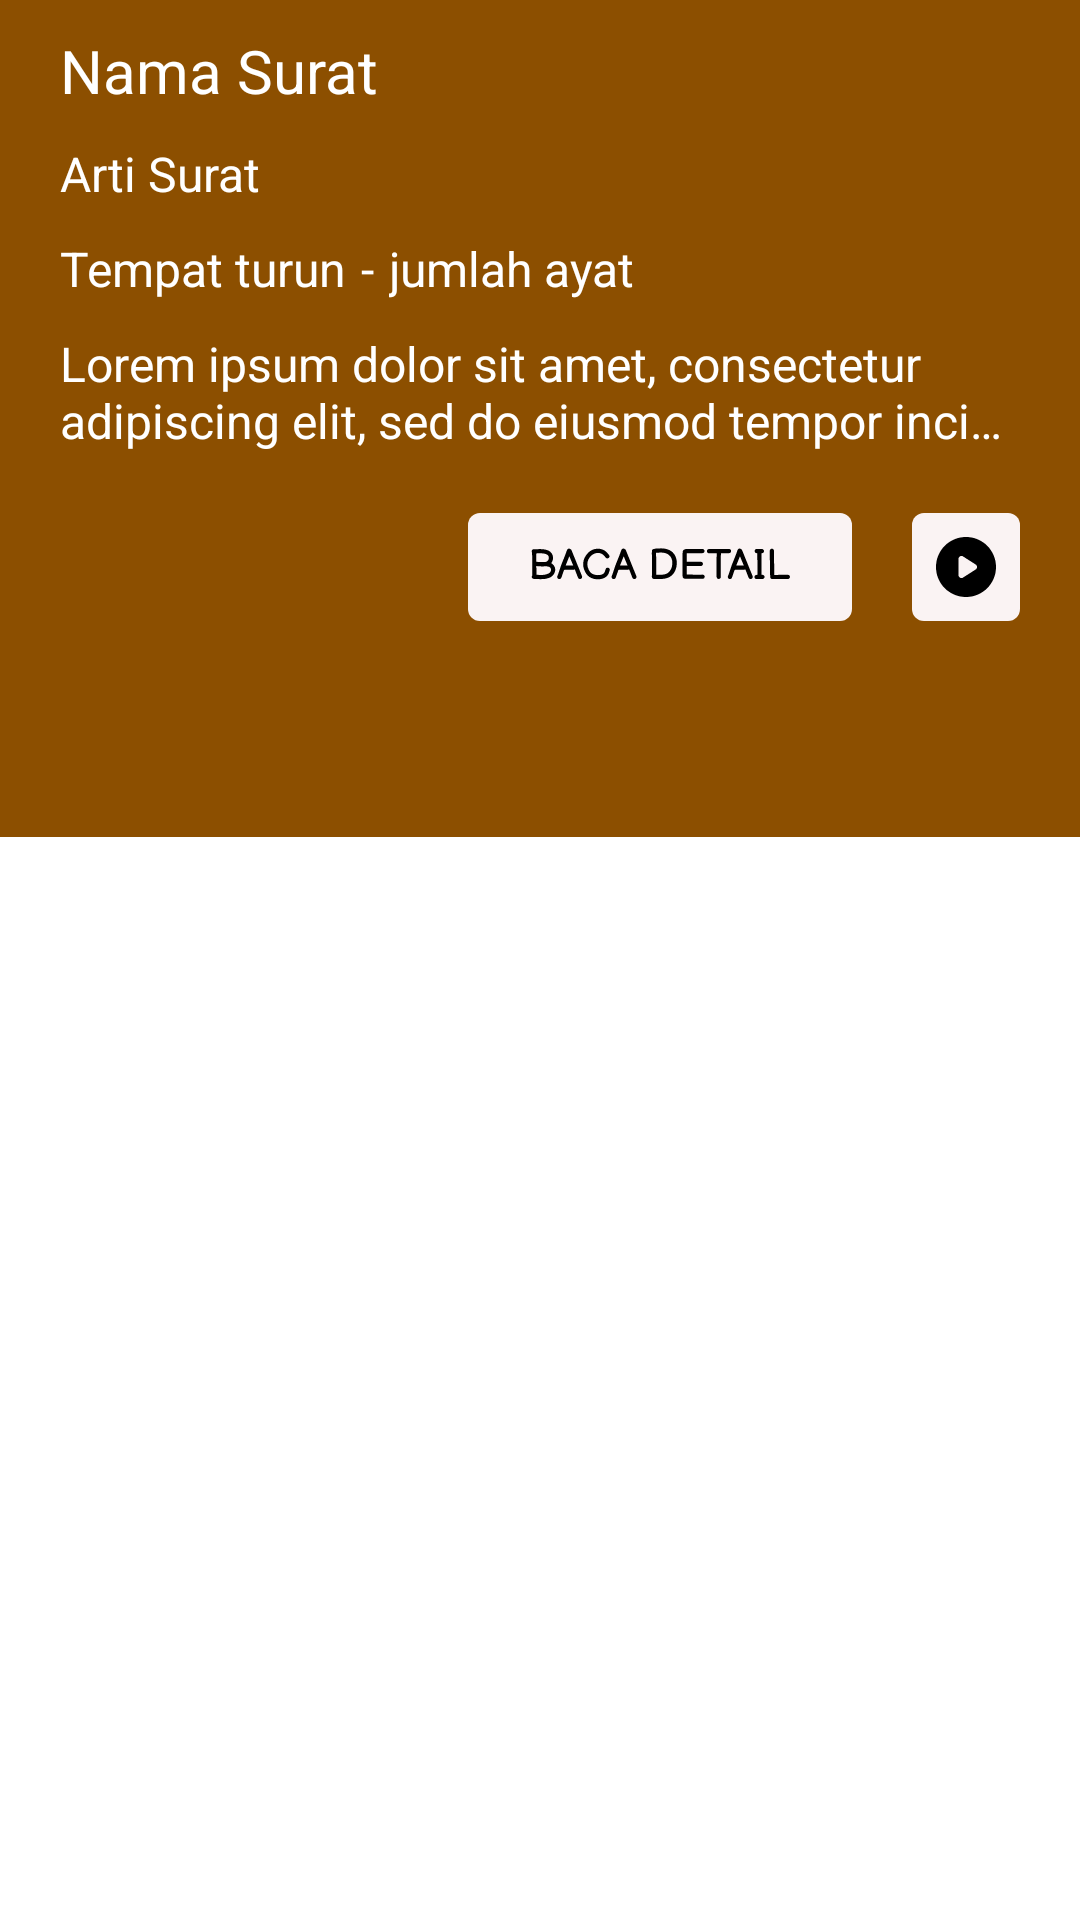

Where to tap for icons on this 1080×1920 app screen, as (x,y):
play: (966,567)
